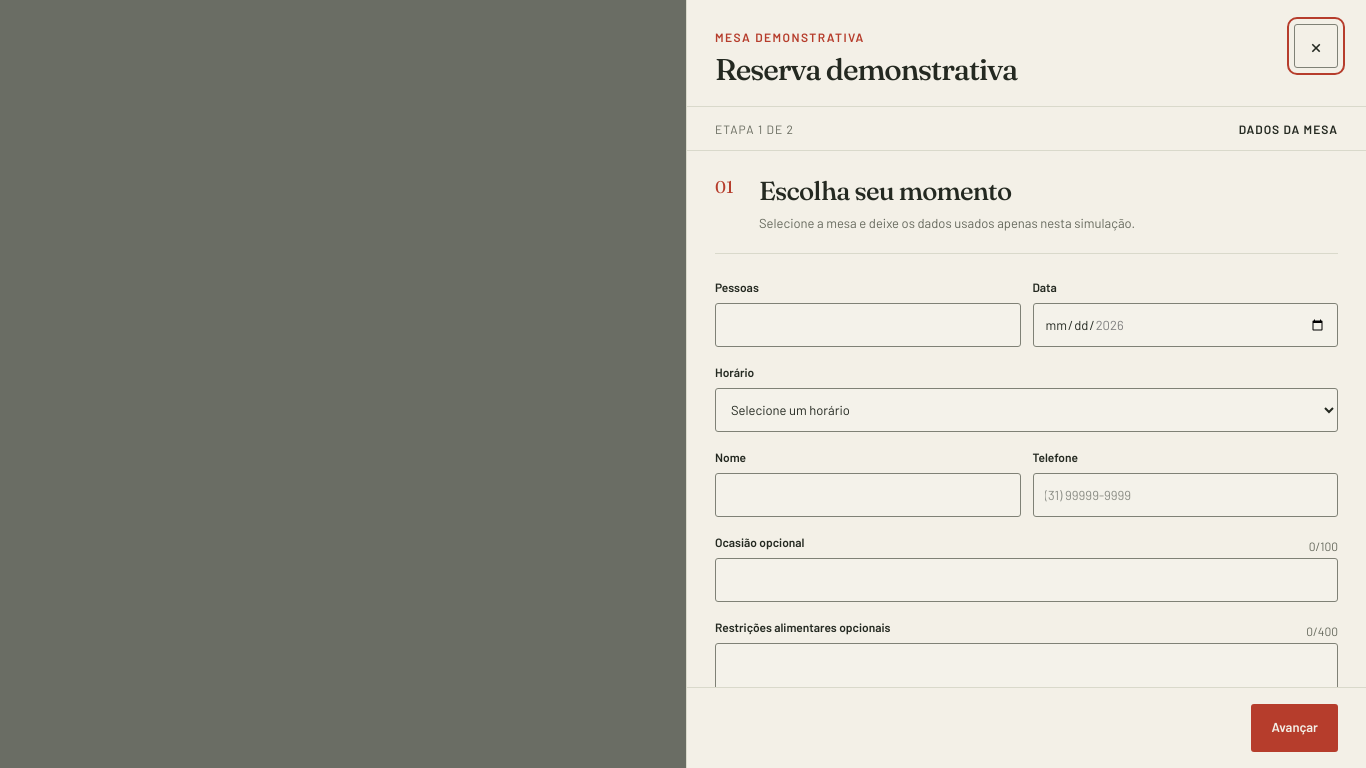
Test case: ReservationDemo › informa que segunda-feira está fechada e não oferece horários
The image size is (1366, 768).
In the date field labelled "Data": (1185, 325) [1032,303,1338,347], type "2026-11-23"
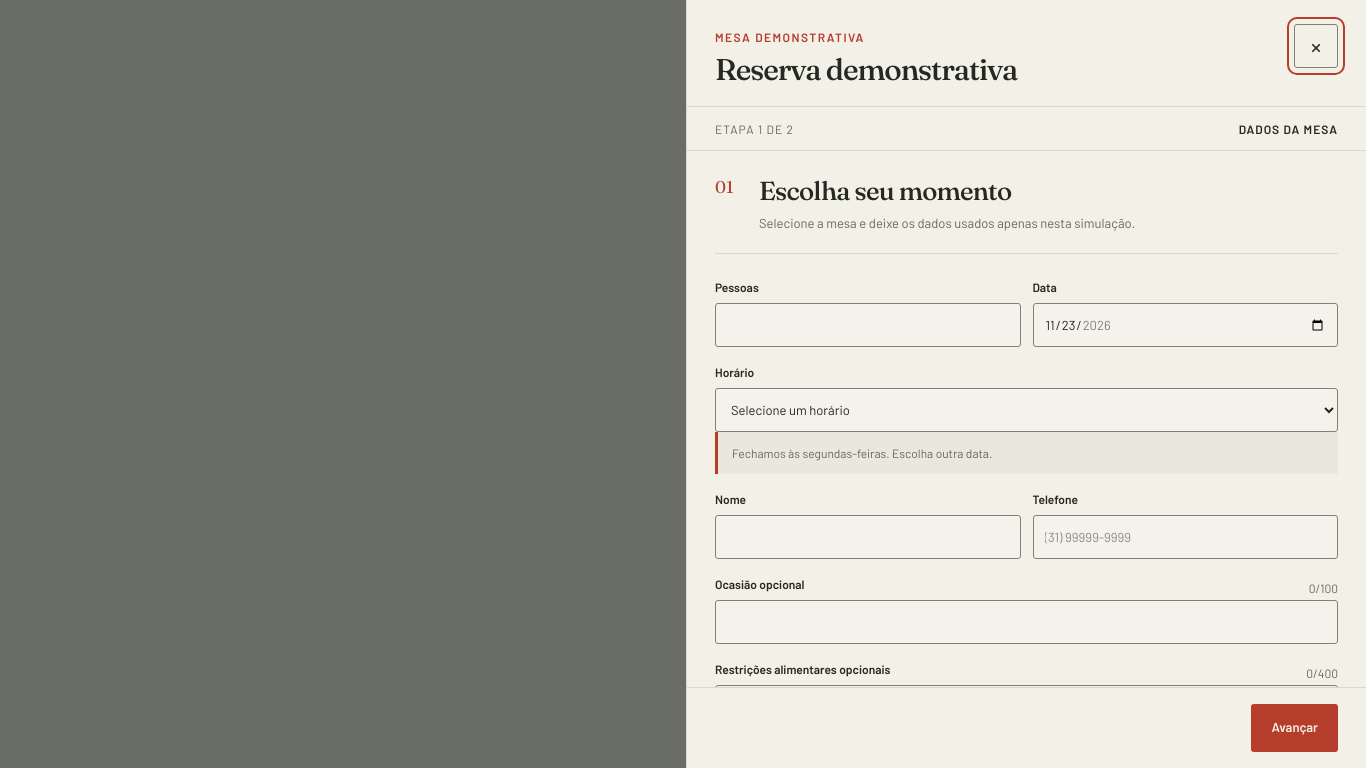
Expected: the dropdown labelled "Horário" is disabled, [715,388,1338,432]
Result: the message reads "Fechamos às segundas-feiras. Escolha outra data." at [732,446,992,460]
Click the button "Avançar": (1295, 728) [1252,704,1338,752]
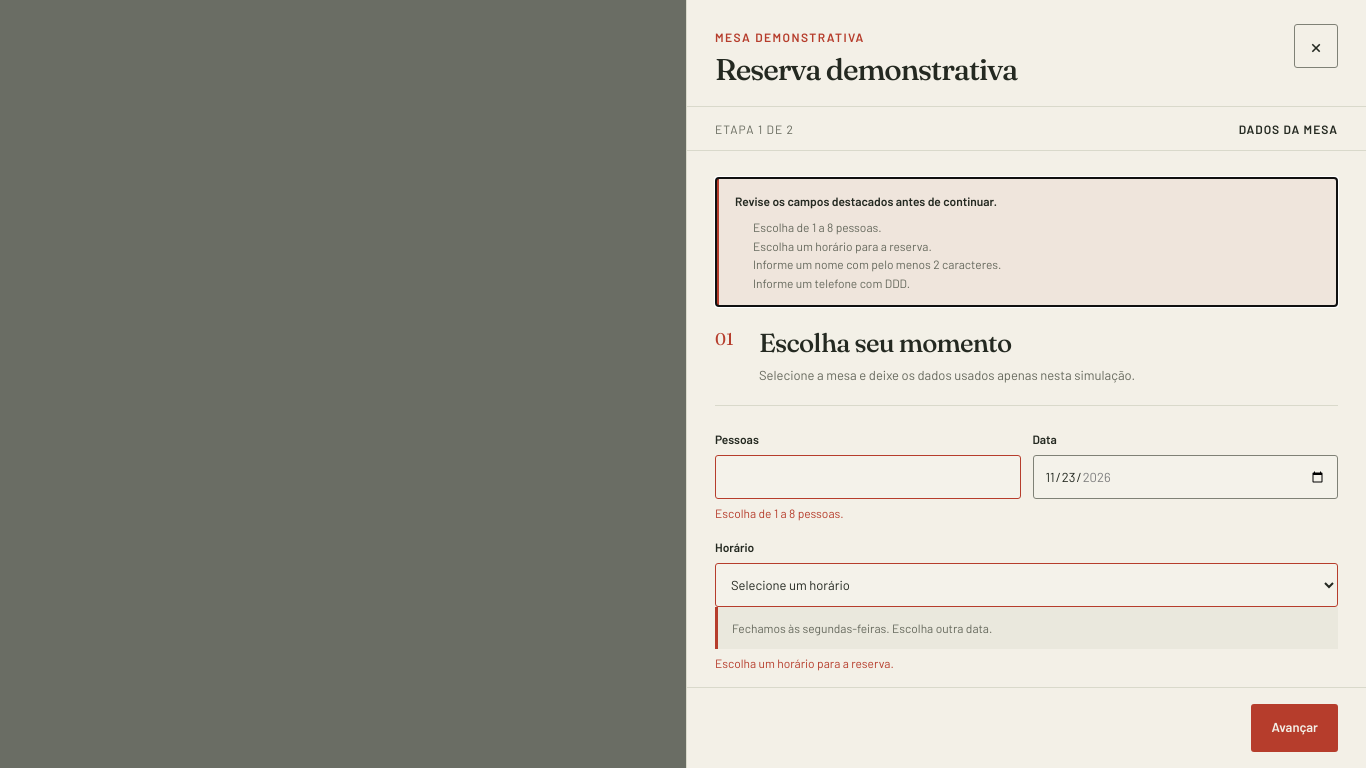
Result: the 1st message shows "horário" at [753,239,932,253]
